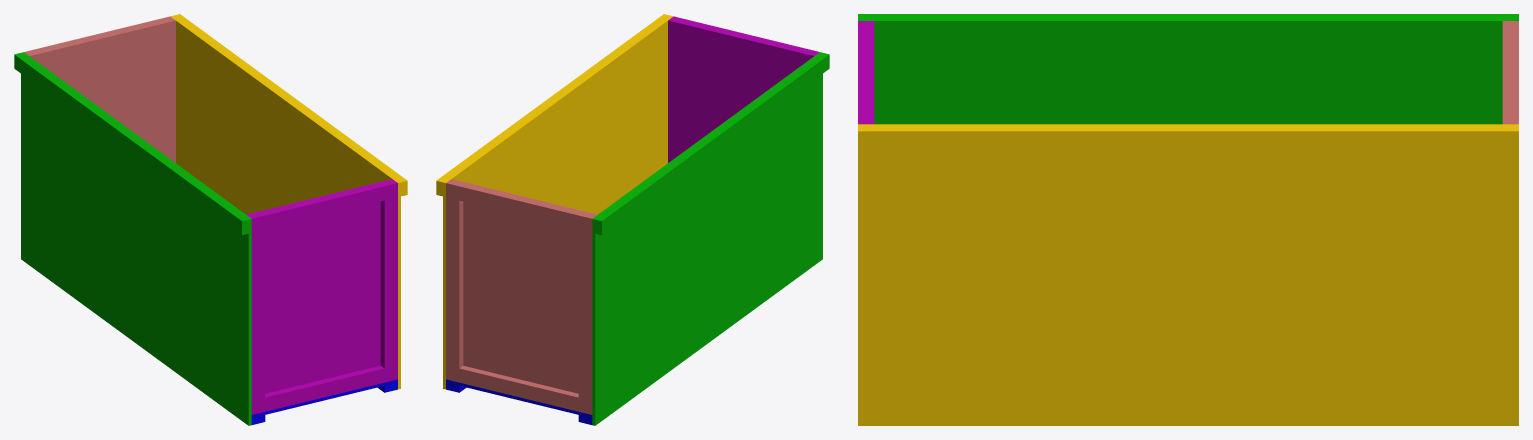
Rendered from result.glb.
The picture shows the model from 3 angles, left to right: view 1: azimuth 30°, elevation 25°; view 2: azimuth 150°, elevation 25°; view 3: azimuth 270°, elevation 25°; orthographic projection. The views are drawn at different scales.
Parts seen in each view (by area): view 1: dc6a781f-1776-49c1-90c2-a79b5f895055__Box_6, dfabea18-863b-43b3-90e7-ca28440b05f9__undefined, 3b27fd4f-b30b-4dfa-8dee-9f01f94d188b__Box_3, a8c5d0b4-0e21-47f9-b0ef-fc4c9f25cc27__undefined, 2ec69620-1fa8-41e1-8ee4-656c64675e20__Box_7, f5a42dab-dad6-47b4-a27e-31662d31d05f__undefined, 791db041-cc6c-4aaf-8706-f0f6f5d6a1f0__Box_4, 87f2c3cd-50d7-4c3d-87c9-ac70bfc4c781__undefined, 7916a3d9-f66e-4594-989d-857f77a5ebb8__Box_5, 1bc13c20-cefb-4225-b2f4-8030ab890f2b__undefined, 3583ee60-2484-49ee-b311-c47b6cc14308__Box, 846deaf0-5919-447c-ba85-7b88e9a88bac__undefined; view 2: dc6a781f-1776-49c1-90c2-a79b5f895055__Box_6, dfabea18-863b-43b3-90e7-ca28440b05f9__undefined, a8c5d0b4-0e21-47f9-b0ef-fc4c9f25cc27__undefined, 3b27fd4f-b30b-4dfa-8dee-9f01f94d188b__Box_3, 2ec69620-1fa8-41e1-8ee4-656c64675e20__Box_7, 41816937-3a71-4cf9-82e9-c5e2cb002186__undefined, 860b51af-1fa6-44a2-8235-dc6065b4d04c__undefined, 846deaf0-5919-447c-ba85-7b88e9a88bac__undefined, 72a6e93c-336e-448d-aa0c-b6ab13b13e31__undefined, 1bc13c20-cefb-4225-b2f4-8030ab890f2b__undefined, 3583ee60-2484-49ee-b311-c47b6cc14308__Box, 87f2c3cd-50d7-4c3d-87c9-ac70bfc4c781__undefined; view 3: dfabea18-863b-43b3-90e7-ca28440b05f9__undefined, dc6a781f-1776-49c1-90c2-a79b5f895055__Box_6, 1bc13c20-cefb-4225-b2f4-8030ab890f2b__undefined, 2ec69620-1fa8-41e1-8ee4-656c64675e20__Box_7, 87f2c3cd-50d7-4c3d-87c9-ac70bfc4c781__undefined, 846deaf0-5919-447c-ba85-7b88e9a88bac__undefined, 3b27fd4f-b30b-4dfa-8dee-9f01f94d188b__Box_3, a8c5d0b4-0e21-47f9-b0ef-fc4c9f25cc27__undefined.
Part boxes in pixels (x1=…): dc6a781f-1776-49c1-90c2-a79b5f895055__Box_6: x1=21, y1=52, x2=251, y2=425; dfabea18-863b-43b3-90e7-ca28440b05f9__undefined: x1=170, y1=15, x2=400, y2=389; 3b27fd4f-b30b-4dfa-8dee-9f01f94d188b__Box_3: x1=246, y1=179, x2=393, y2=393; a8c5d0b4-0e21-47f9-b0ef-fc4c9f25cc27__undefined: x1=28, y1=19, x2=175, y2=162; 2ec69620-1fa8-41e1-8ee4-656c64675e20__Box_7: x1=14, y1=53, x2=248, y2=235; f5a42dab-dad6-47b4-a27e-31662d31d05f__undefined: x1=380, y1=180, x2=397, y2=382; 791db041-cc6c-4aaf-8706-f0f6f5d6a1f0__Box_4: x1=248, y1=212, x2=265, y2=414; 87f2c3cd-50d7-4c3d-87c9-ac70bfc4c781__undefined: x1=262, y1=183, x2=384, y2=229; 7916a3d9-f66e-4594-989d-857f77a5ebb8__Box_5: x1=265, y1=365, x2=384, y2=411; 1bc13c20-cefb-4225-b2f4-8030ab890f2b__undefined: x1=173, y1=14, x2=407, y2=196; 3583ee60-2484-49ee-b311-c47b6cc14308__Box: x1=251, y1=379, x2=397, y2=417; 846deaf0-5919-447c-ba85-7b88e9a88bac__undefined: x1=38, y1=19, x2=160, y2=51; dc6a781f-1776-49c1-90c2-a79b5f895055__Box_6: x1=592, y1=52, x2=822, y2=425; dfabea18-863b-43b3-90e7-ca28440b05f9__undefined: x1=443, y1=15, x2=673, y2=389; a8c5d0b4-0e21-47f9-b0ef-fc4c9f25cc27__undefined: x1=450, y1=179, x2=597, y2=393; 3b27fd4f-b30b-4dfa-8dee-9f01f94d188b__Box_3: x1=668, y1=19, x2=815, y2=162; 2ec69620-1fa8-41e1-8ee4-656c64675e20__Box_7: x1=595, y1=53, x2=829, y2=235; 41816937-3a71-4cf9-82e9-c5e2cb002186__undefined: x1=446, y1=180, x2=463, y2=382; 860b51af-1fa6-44a2-8235-dc6065b4d04c__undefined: x1=578, y1=212, x2=595, y2=414; 846deaf0-5919-447c-ba85-7b88e9a88bac__undefined: x1=459, y1=183, x2=581, y2=229; 72a6e93c-336e-448d-aa0c-b6ab13b13e31__undefined: x1=459, y1=365, x2=578, y2=411; 1bc13c20-cefb-4225-b2f4-8030ab890f2b__undefined: x1=436, y1=14, x2=670, y2=196; 3583ee60-2484-49ee-b311-c47b6cc14308__Box: x1=446, y1=379, x2=592, y2=417; 87f2c3cd-50d7-4c3d-87c9-ac70bfc4c781__undefined: x1=683, y1=19, x2=805, y2=51; dfabea18-863b-43b3-90e7-ca28440b05f9__undefined: x1=858, y1=124, x2=1518, y2=425; dc6a781f-1776-49c1-90c2-a79b5f895055__Box_6: x1=858, y1=18, x2=1518, y2=124; 1bc13c20-cefb-4225-b2f4-8030ab890f2b__undefined: x1=858, y1=126, x2=1518, y2=151; 2ec69620-1fa8-41e1-8ee4-656c64675e20__Box_7: x1=858, y1=14, x2=1518, y2=18; 87f2c3cd-50d7-4c3d-87c9-ac70bfc4c781__undefined: x1=858, y1=30, x2=869, y2=114; 846deaf0-5919-447c-ba85-7b88e9a88bac__undefined: x1=1507, y1=30, x2=1518, y2=114; 3b27fd4f-b30b-4dfa-8dee-9f01f94d188b__Box_3: x1=869, y1=21, x2=874, y2=124; a8c5d0b4-0e21-47f9-b0ef-fc4c9f25cc27__undefined: x1=1502, y1=21, x2=1507, y2=124.
Bounding box in the file's own units: 442 × 526 × 1052.
